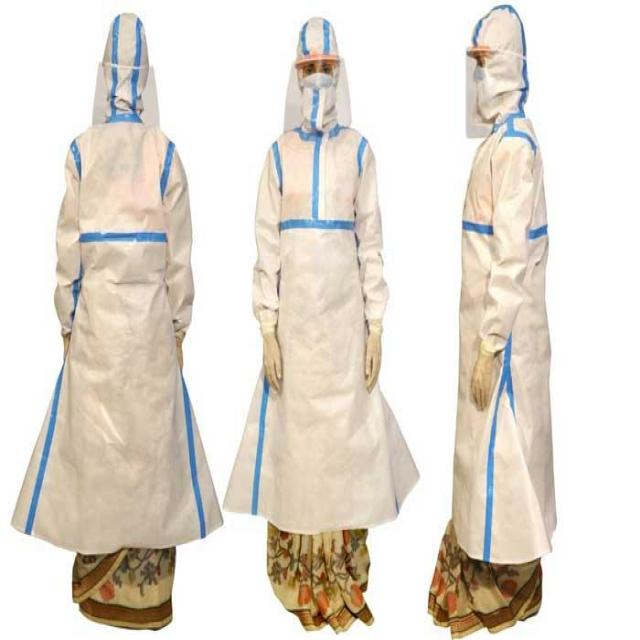Coverall: (9, 2, 241, 619), (228, 10, 401, 639), (416, 4, 563, 632)
Gloves: (235, 325, 292, 407), (357, 323, 398, 398)
Mask: (294, 78, 345, 131)
